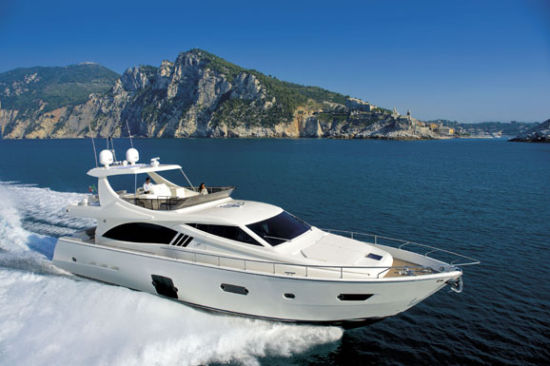yacht: (49, 132, 479, 316)
